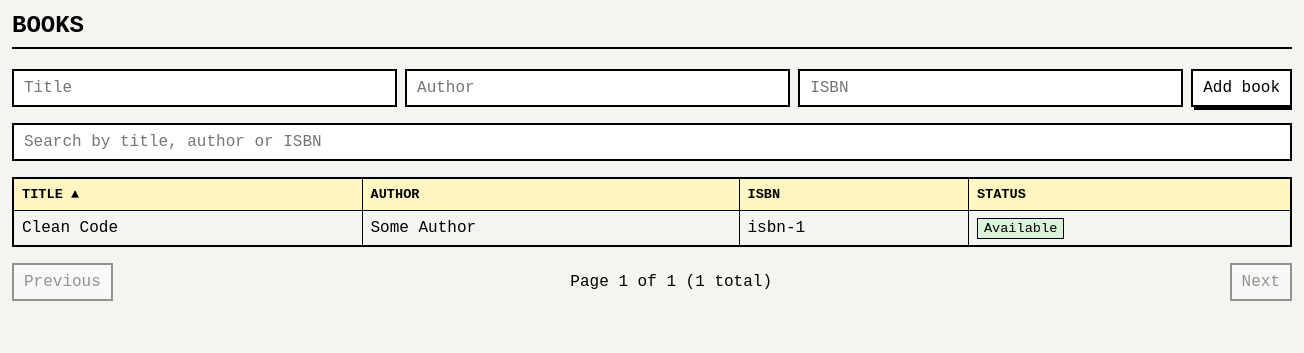
Test case: BooksPage › lets staff add a book and reloads the list
Expected: the text "Clean Code" is shown, x1=13 y1=210 x2=362 y2=246
In the field labelled "Title": coordinates (205, 88) x1=12 y1=69 x2=397 y2=107, type "Refactoring"
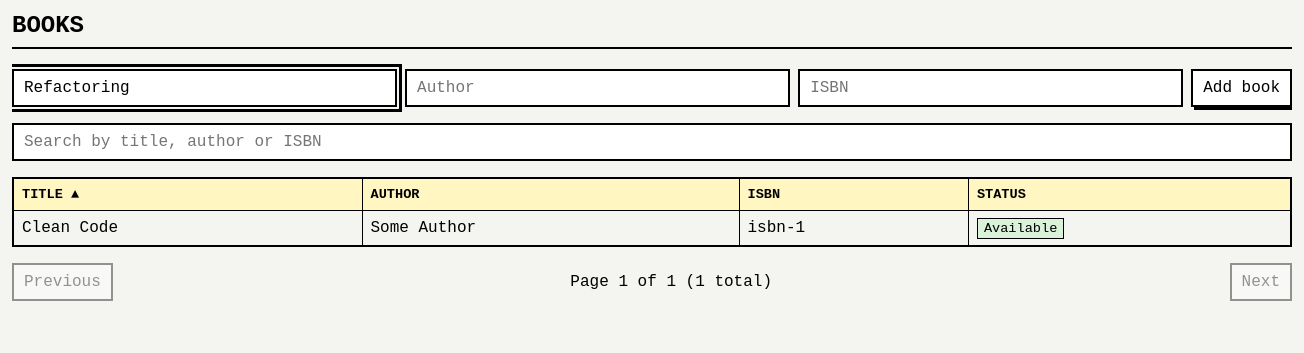
In the field labelled "Author": coordinates (598, 88) x1=405 y1=69 x2=790 y2=107, type "Martin Fowler"
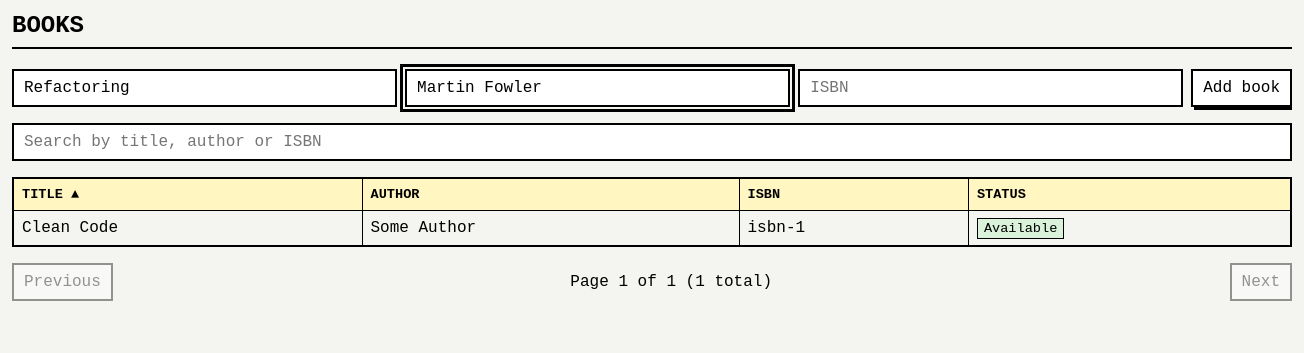
In the field labelled "ISBN": coordinates (991, 88) x1=798 y1=69 x2=1183 y2=107, type "9780134757599"
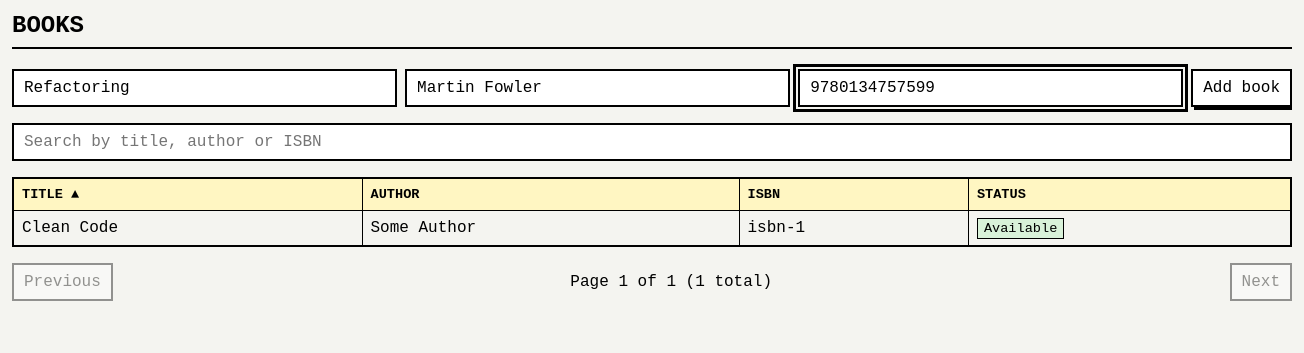
Click the button "Add book": coordinates (1242, 88) x1=1191 y1=69 x2=1292 y2=107
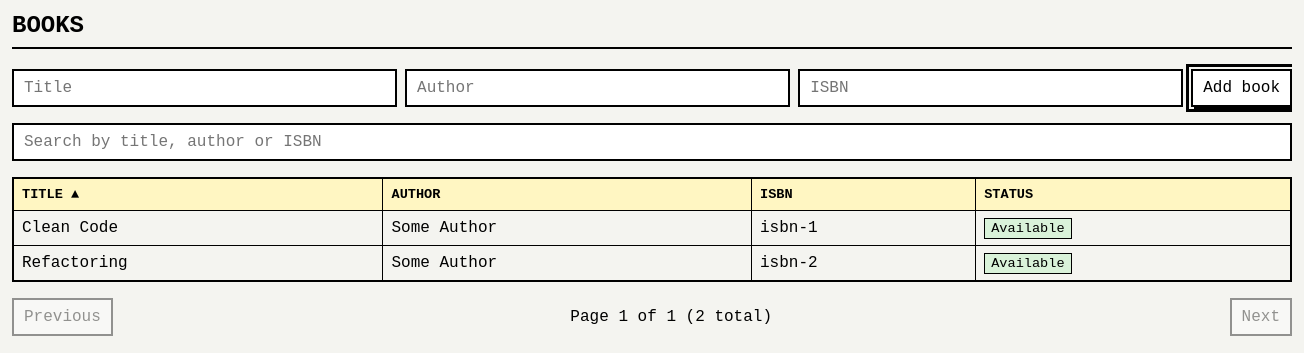
Now the text "Refactoring" is shown, box x1=13 y1=245 x2=383 y2=281
